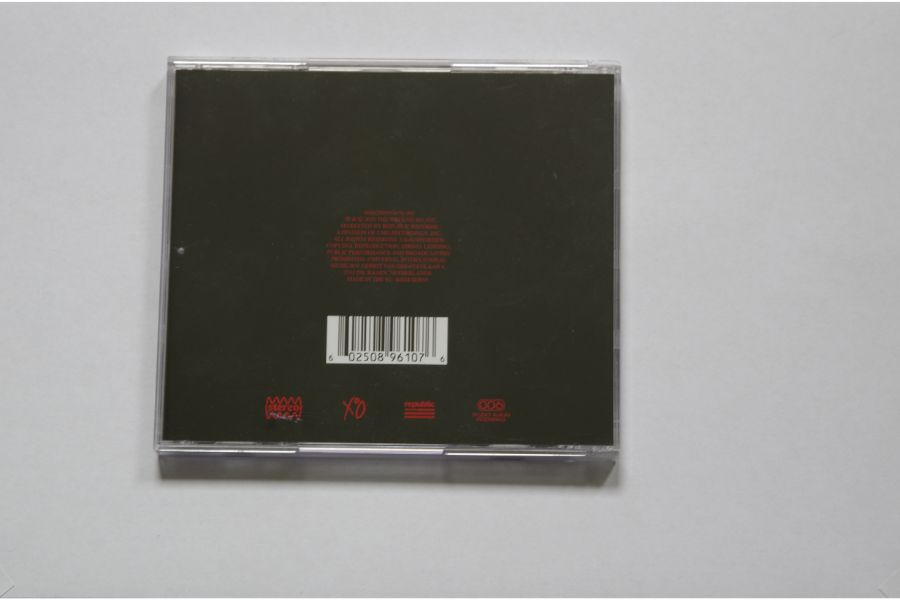album: (156, 55, 625, 460)
